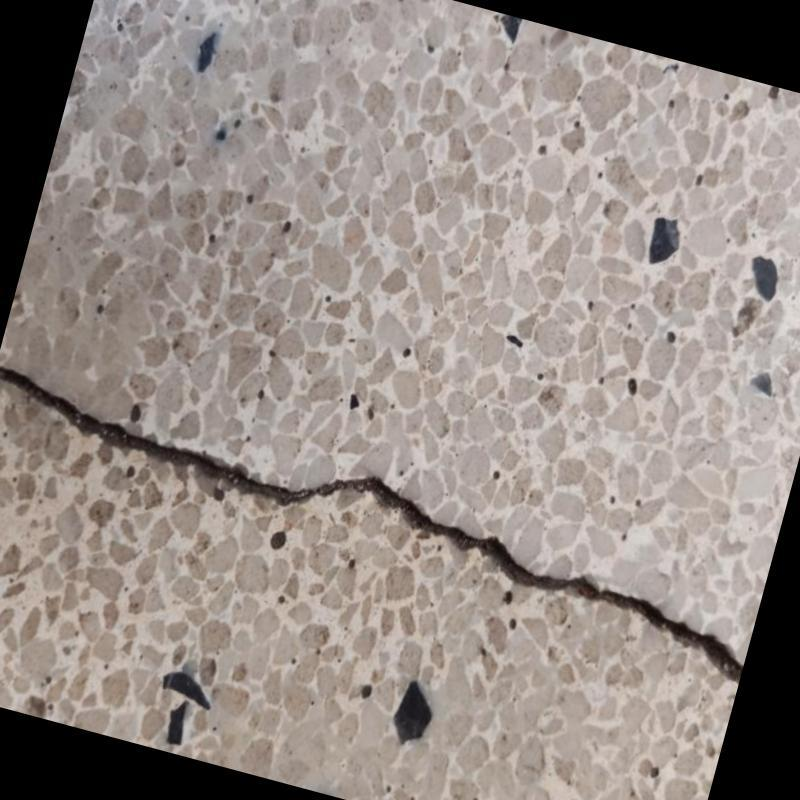pothole: (0, 366, 743, 682)
